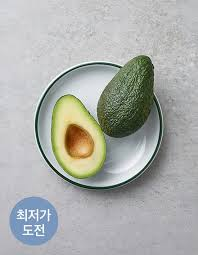avocado: (53, 95, 107, 180)
